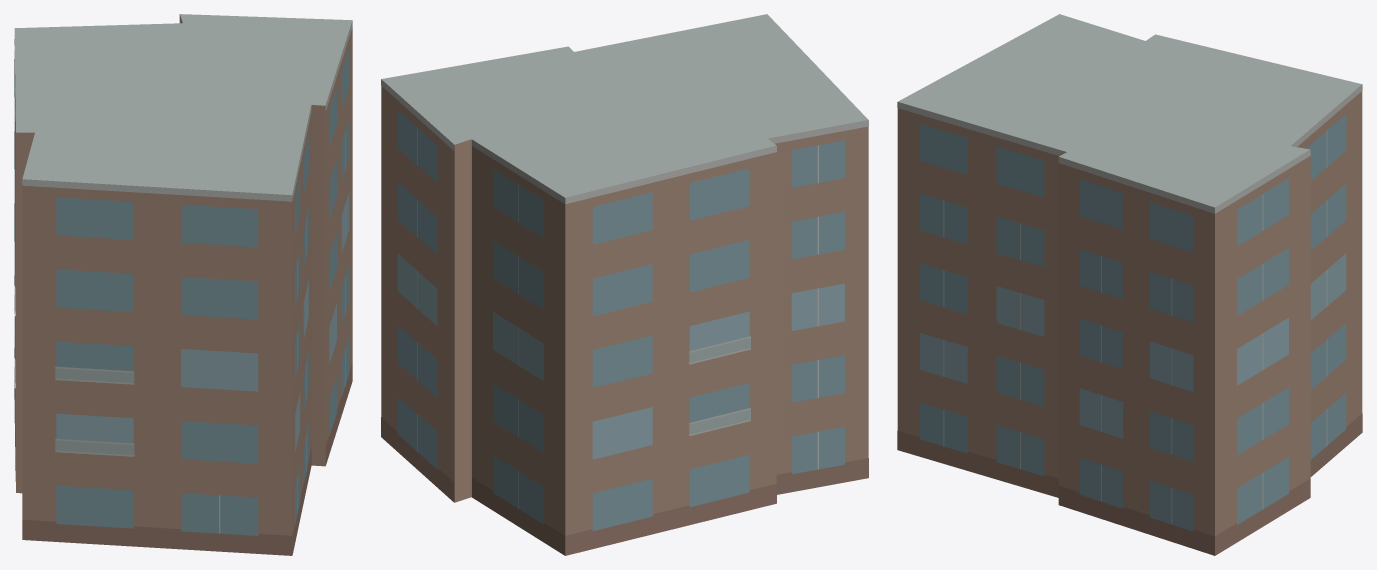
Rendered from survey-upis-32995335.glb.
3 renders of one model, left to right at view 1: azimuth 30°, elevation 25°; view 2: azimuth 150°, elevation 25°; view 3: azimuth 270°, elevation 25°, orthographic. The views are drawn at different scales.
Parts seen in each view (by area): view 1: survey-upis-32995335.tmp; view 2: survey-upis-32995335.tmp; view 3: survey-upis-32995335.tmp.
Boxes of the visible parts, x1,y1,x2,y2 form: survey-upis-32995335.tmp: [14, 14, 352, 555]; survey-upis-32995335.tmp: [381, 14, 868, 555]; survey-upis-32995335.tmp: [897, 14, 1362, 555].
Size of the model in its own units: 16.22 by 13.6 by 16.46.
